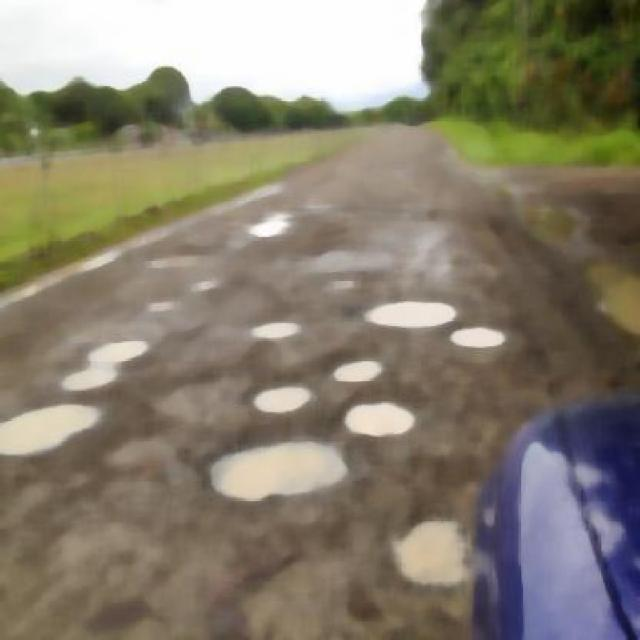Pothole: (328, 262, 512, 361), (204, 425, 354, 507), (0, 392, 91, 480), (62, 309, 138, 411), (389, 497, 473, 588), (145, 243, 217, 294), (343, 394, 417, 440), (260, 372, 322, 426), (336, 365, 396, 387)
